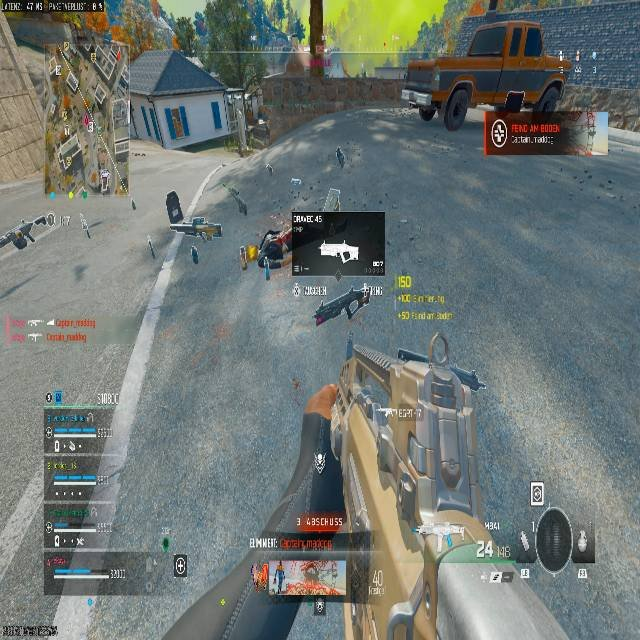player: (0, 212, 55, 259)
